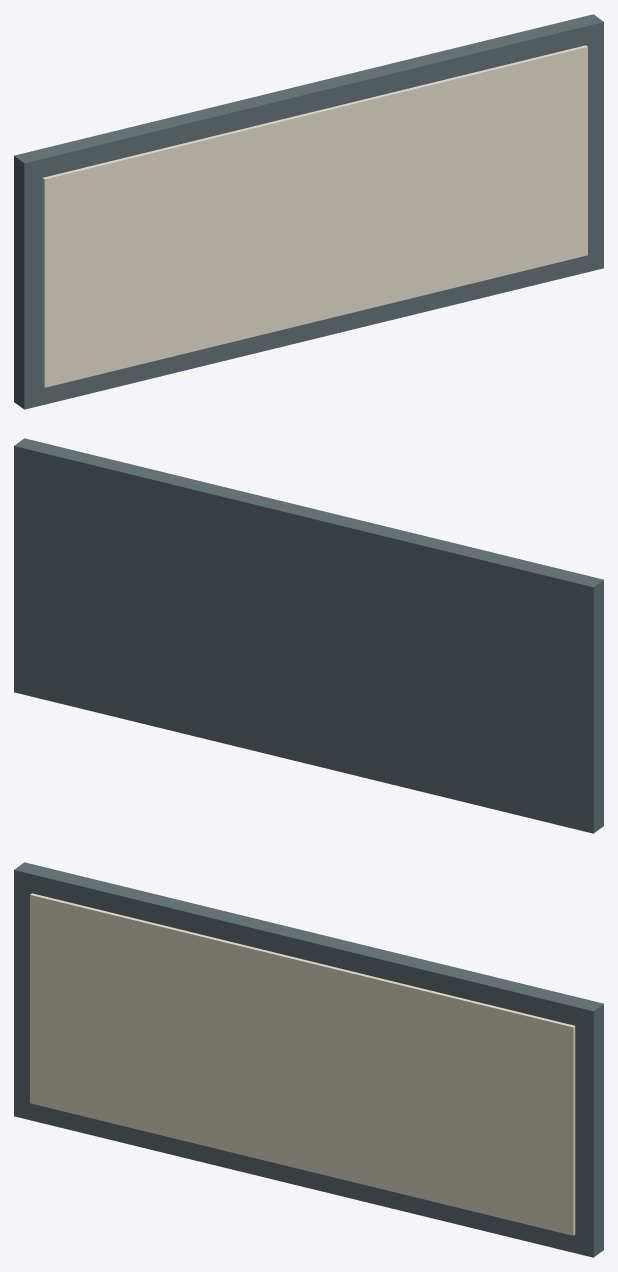
File: blank-signboard.glb
The picture shows the model from 3 angles, top to bottom: view 1: azimuth 30°, elevation 25°; view 2: azimuth 150°, elevation 25°; view 3: azimuth 330°, elevation 25°; orthographic projection.
Size of the model in its own units: 3.2 by 1.3 by 0.12.
